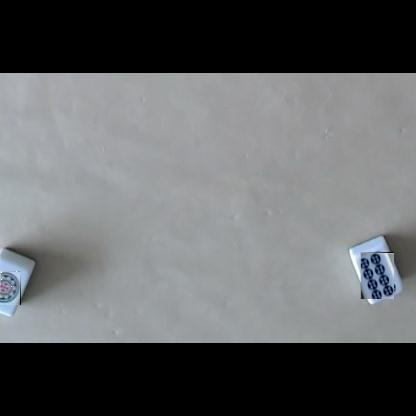1p: (0, 271, 21, 305)
8p: (360, 252, 394, 299)
